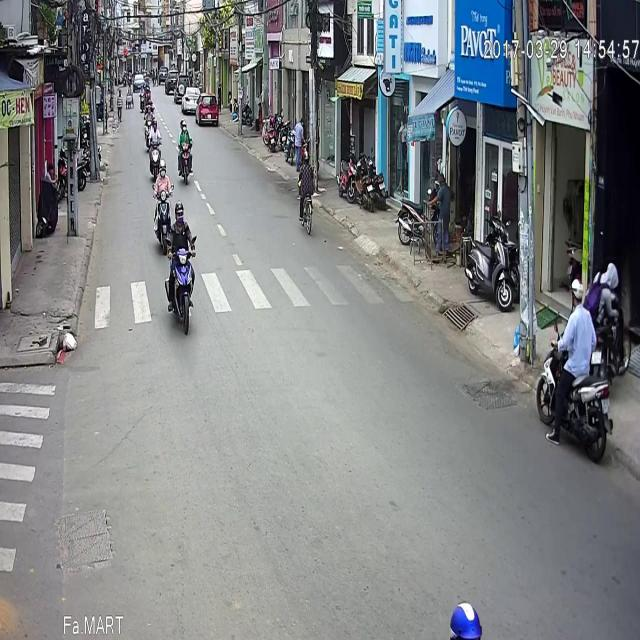bicycle: (297, 93, 314, 178)
car: (195, 34, 219, 68)
motorcycle: (535, 220, 613, 406), (164, 142, 196, 276), (152, 100, 174, 196), (176, 60, 192, 127), (148, 59, 162, 122), (142, 46, 154, 91)
